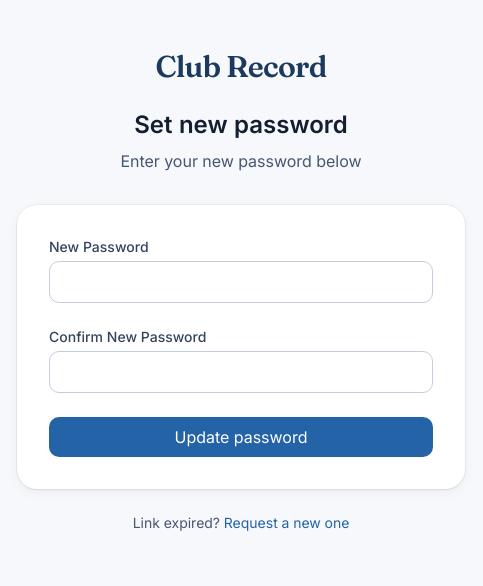
Test: ResetPasswordPage › shows a generic message when updateUser throws
The width and height of the screenshot is (483, 586).
Step 1. Type "secret1" into the password field labelled "New Password" → (241, 282), box [49,261,433,303]
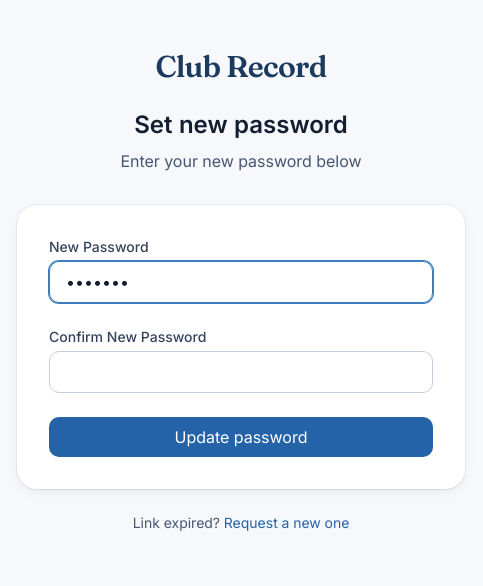
Step 2. Type "secret1" into the password field labelled "Confirm New Password" → (241, 372), box [49,351,433,393]
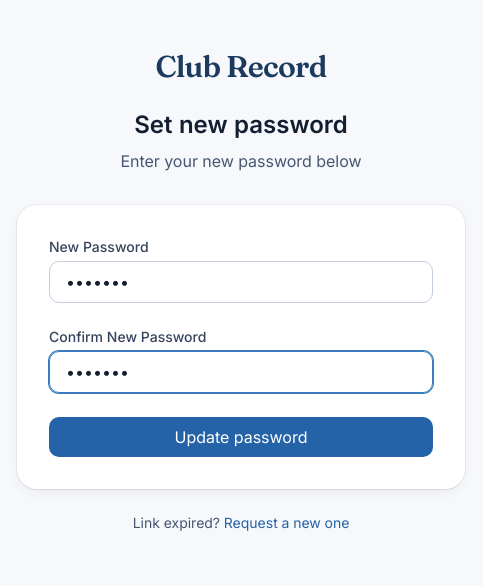
Step 3. Click the button "Update password" → (241, 437), box [49,417,433,457]
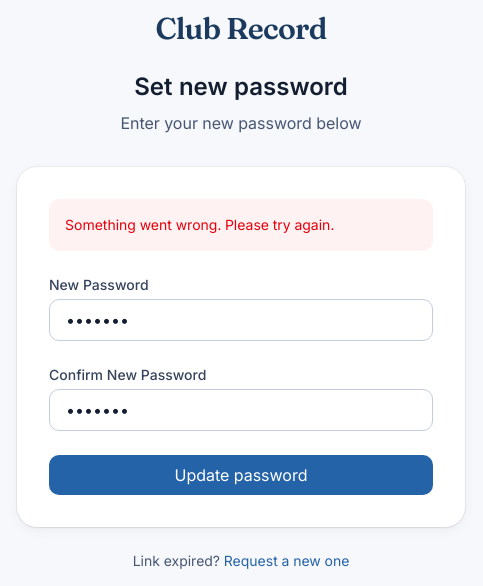
Result: the text "Something went wrong. Please try again." is shown at [49,199,433,251]
